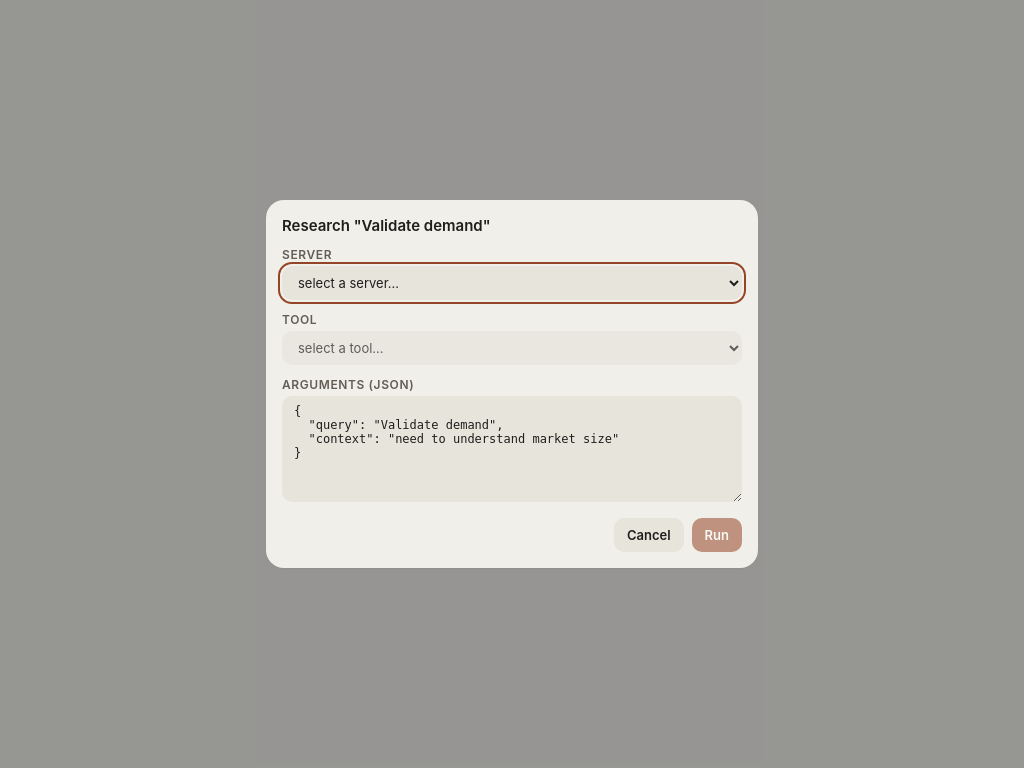
Test: ResearchRunDialog › shows an honest "not set" note when no policy applies to the scope
Step 1. Select "Prowl" in the dropdown with test id "research-run-server-select" → (512, 283), box [282, 266, 742, 300]
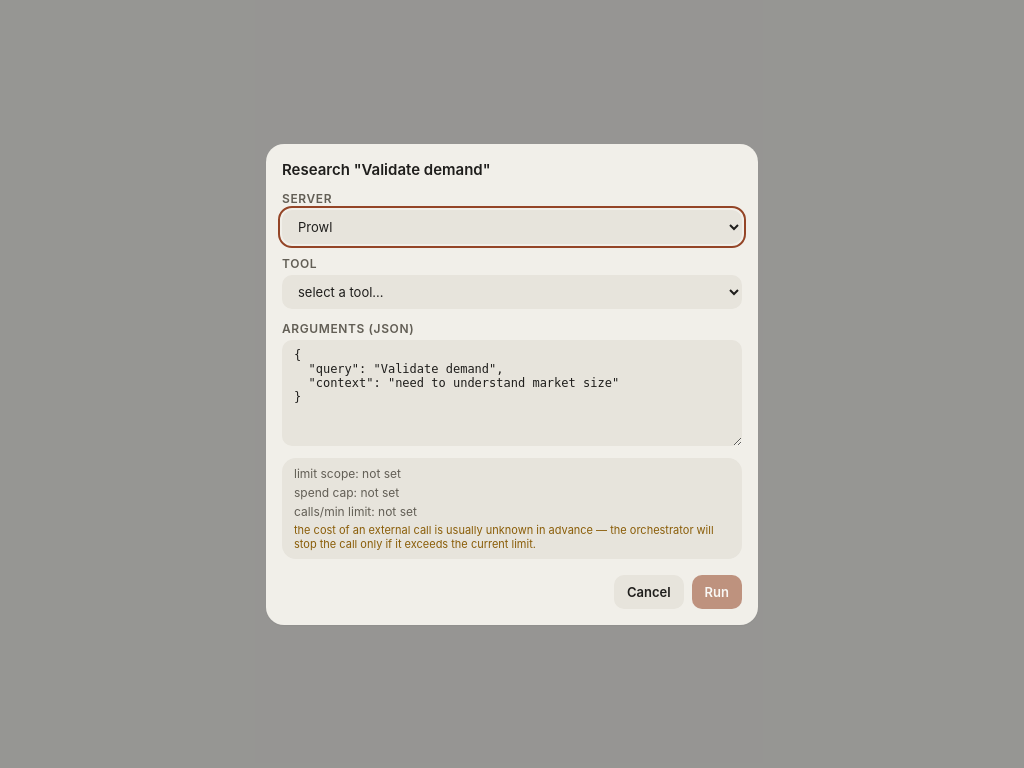
Check: the text with test id "research-run-policy-spend-cap" shows "not set", box [360, 484, 399, 500]
